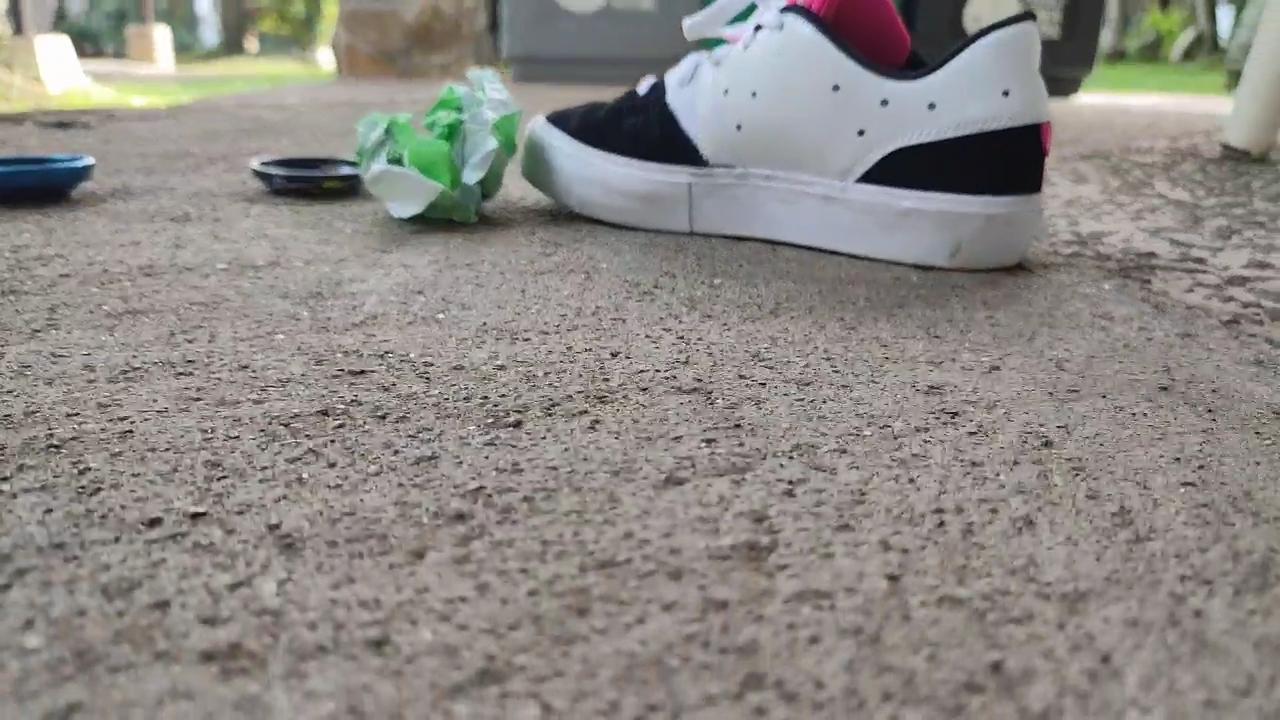Paper: (345, 45, 524, 237)
